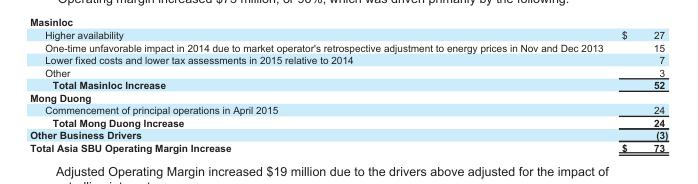table: (29, 28, 667, 152)
table column: (29, 28, 611, 152), (611, 28, 667, 152)
table projected row header: (29, 90, 667, 103)
table row: (29, 40, 667, 53), (29, 65, 667, 78), (29, 90, 667, 103), (29, 103, 667, 116), (29, 128, 667, 141), (29, 28, 667, 40), (29, 53, 667, 65), (29, 78, 667, 90), (29, 116, 667, 128), (29, 141, 667, 152)
